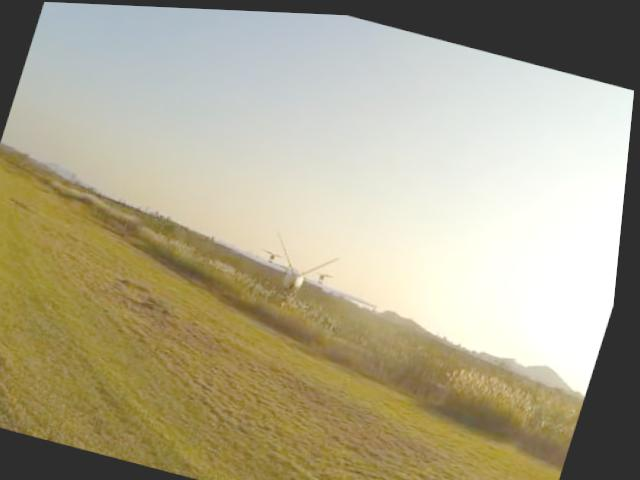uav: (187, 202, 414, 337)
